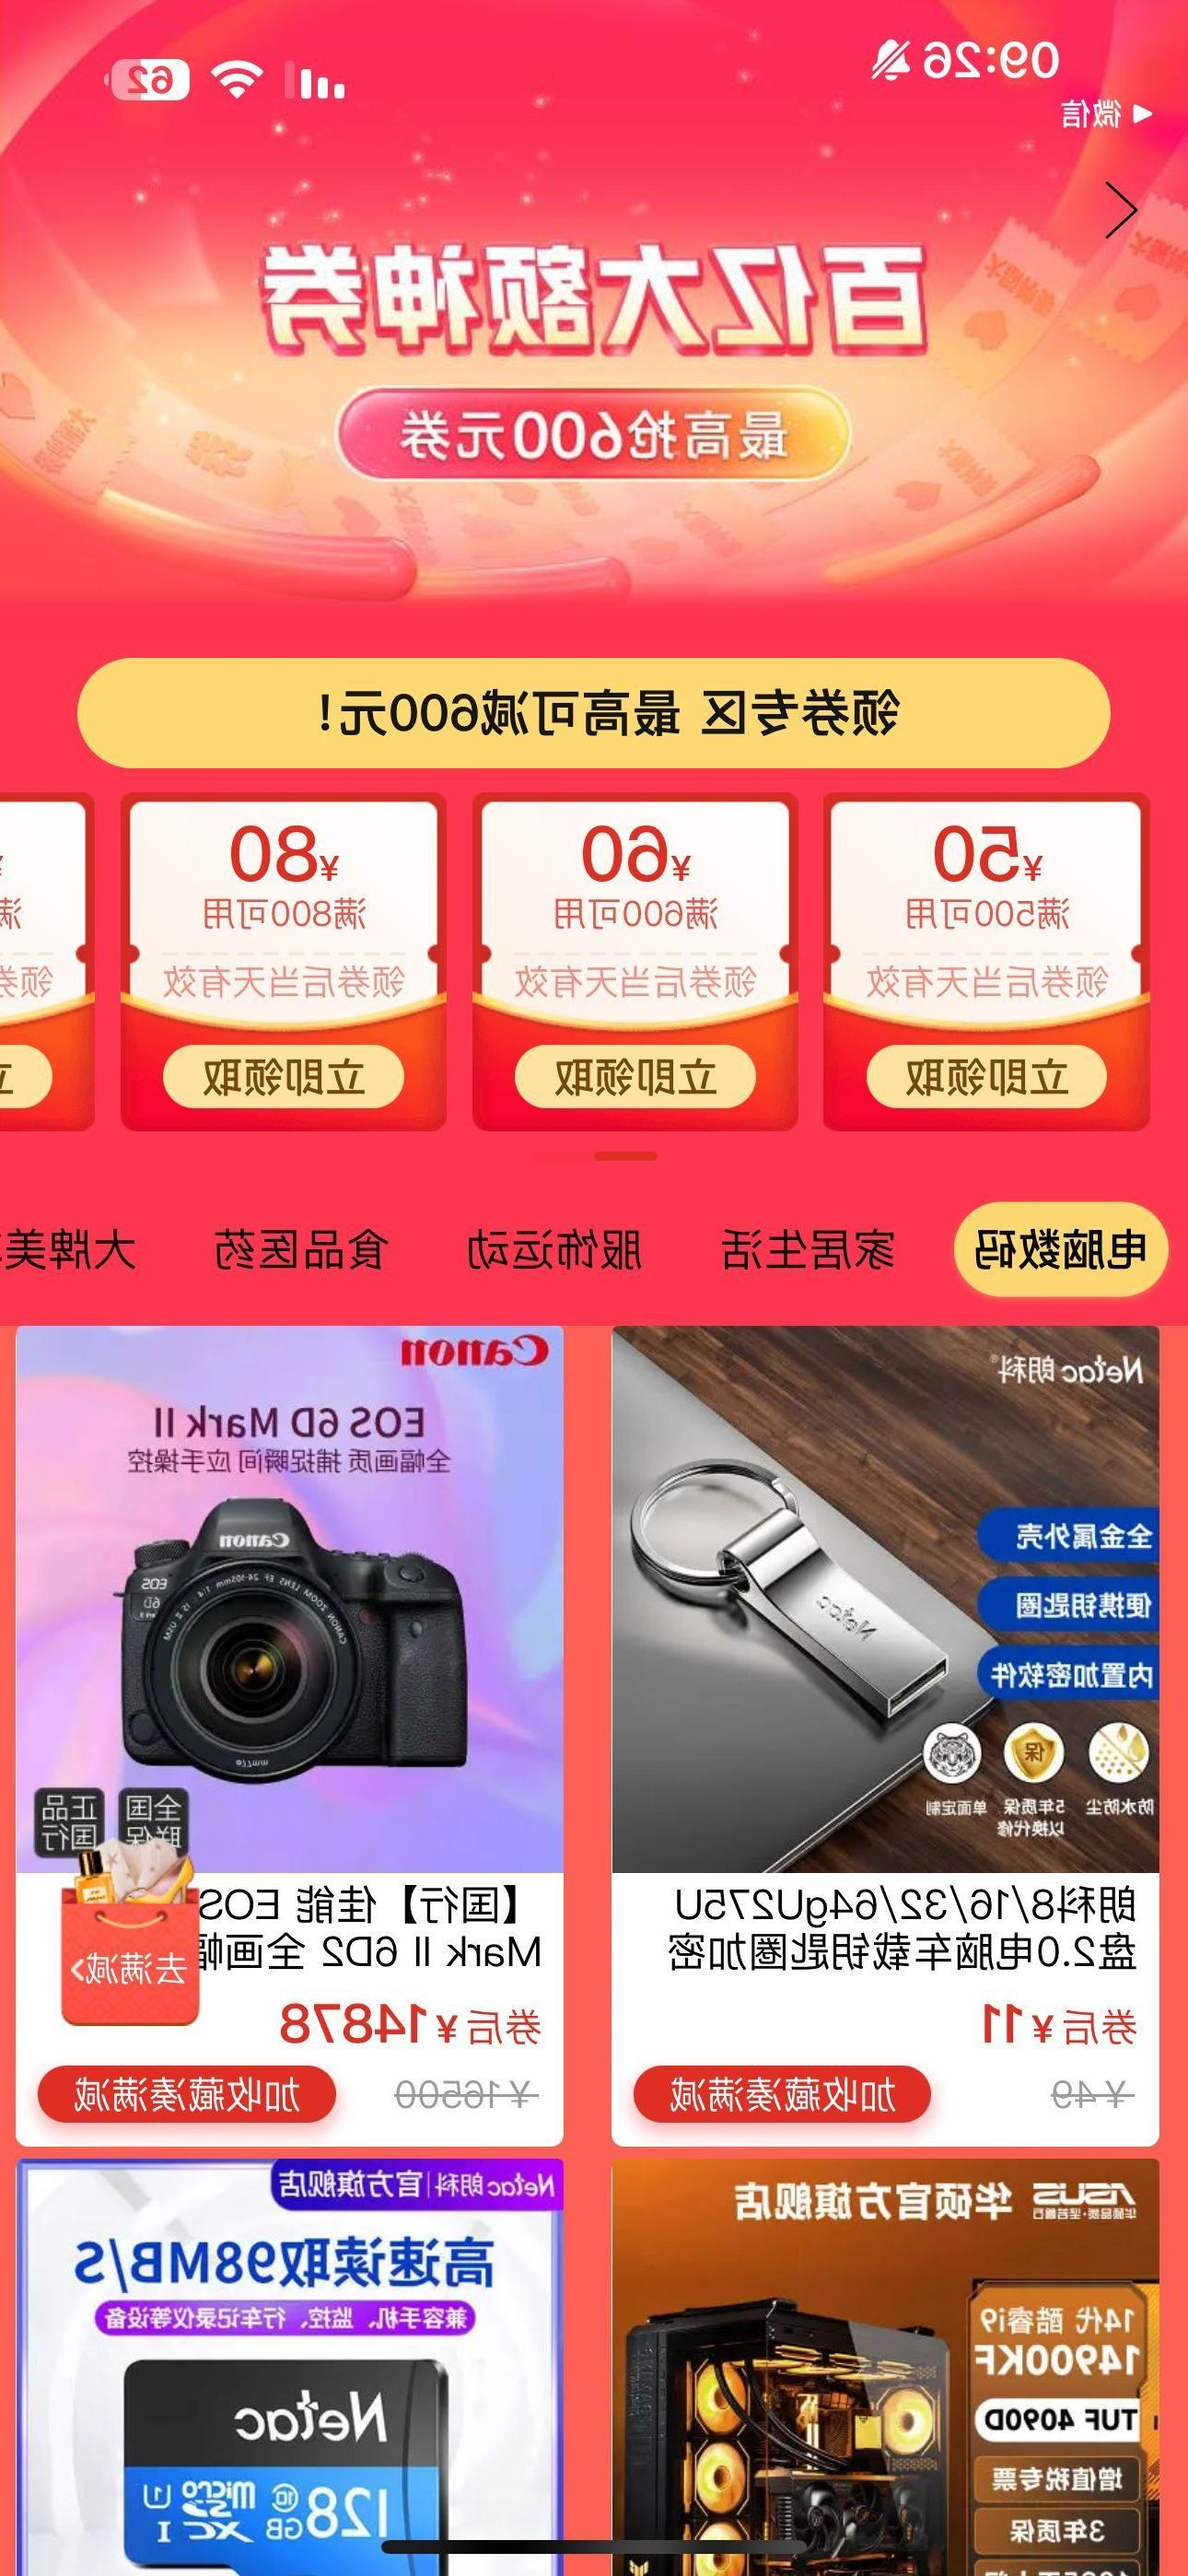item: (16, 1321, 567, 2150), (613, 1321, 1158, 2146)
op_bar: (3, 149, 1178, 251)
